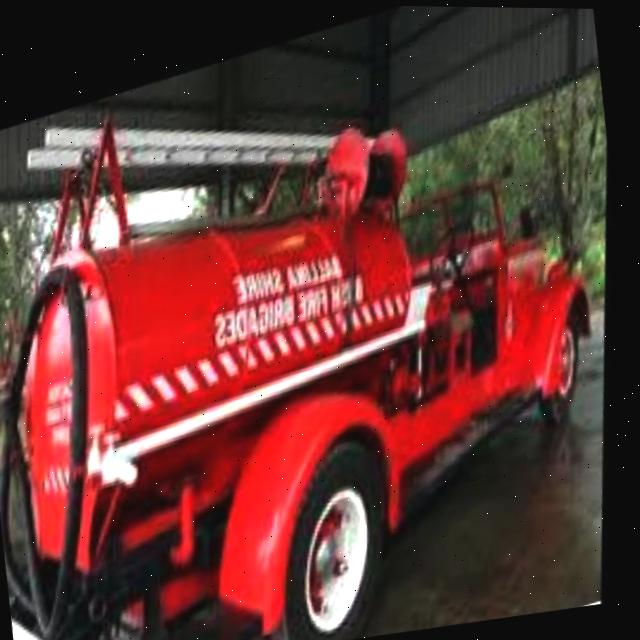emergency: (0, 34, 639, 640)
